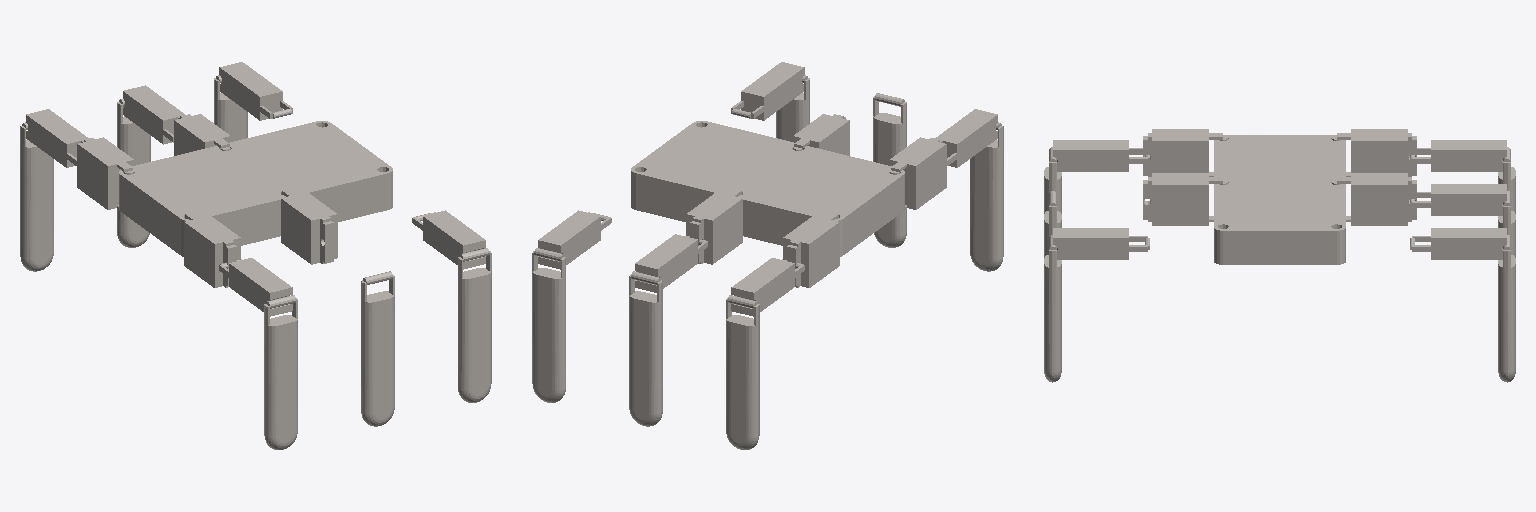
--- Facts derived from the render (not from the file) ---
The picture shows the robot from 3 angles, left to right: view 1: azimuth 30°, elevation 25°; view 2: azimuth 150°, elevation 25°; view 3: azimuth 270°, elevation 25°; orthographic projection.
Robot: hexapod — 20 links, 19 joints (17 revolute, 1 continuous, 1 fixed); root link base_link; default pose: every joint at zero.
Visible links, largest first — view 1: BODY, leg_1_3, leg_2_3, leg_0_3, leg_3_3, leg_1_1, leg_2_1, leg_3_1, leg_5_2, leg_0_2, leg_2_2, leg_4_2 (+4 smaller); view 2: BODY, leg_4_3, leg_3_3, leg_5_3, leg_2_3, leg_4_1, leg_3_1, leg_2_1, leg_1_3, leg_0_2, leg_5_2, leg_3_2 (+4 smaller); view 3: BODY, leg_1_1, leg_4_1, leg_2_1, leg_3_1, leg_0_2, leg_5_2, leg_2_2, leg_3_2, leg_4_2, leg_0_3, leg_5_3 (+4 smaller).
Link boxes in pixels (x1,y1,x2,y2): BODY: (119, 121, 392, 256); leg_1_3: (361, 271, 394, 426); leg_2_3: (264, 295, 297, 449); leg_0_3: (458, 248, 491, 402); leg_3_3: (20, 122, 53, 271); leg_1_1: (281, 189, 337, 264); leg_2_1: (184, 212, 240, 287); leg_3_1: (77, 137, 133, 209); leg_5_2: (219, 62, 292, 120); leg_0_2: (412, 210, 485, 269); leg_2_2: (219, 258, 292, 316); leg_4_2: (123, 85, 184, 144); BODY: (631, 121, 904, 256); leg_4_3: (629, 271, 662, 426); leg_3_3: (726, 295, 759, 449); leg_5_3: (532, 248, 565, 402); leg_2_3: (970, 122, 1003, 271); leg_4_1: (686, 189, 742, 264); leg_3_1: (783, 212, 839, 287); leg_2_1: (890, 137, 946, 209); leg_1_3: (873, 93, 906, 247); leg_0_2: (731, 62, 804, 120); leg_5_2: (538, 210, 611, 269); leg_3_2: (731, 258, 804, 316); BODY: (1214, 135, 1345, 264); leg_1_1: (1143, 173, 1227, 225); leg_4_1: (1332, 173, 1416, 225); leg_2_1: (1143, 129, 1227, 176); leg_3_1: (1332, 129, 1416, 176); leg_0_2: (1053, 228, 1149, 259); leg_5_2: (1410, 228, 1506, 259); leg_2_2: (1053, 140, 1149, 171); leg_3_2: (1410, 140, 1506, 171); leg_4_2: (1410, 184, 1506, 215); leg_0_3: (1044, 235, 1061, 382); leg_5_3: (1498, 235, 1515, 382).
Bounding box of the posed robot: 0.256 × 0.498 × 0.184 m (x, y, z).
Meshes: 19 distinct files referenced, 16 mesh visuals loaded (16 binary STL); not drawn: 3 (reference not matched to a file when rendering).

URDF robot description (hexapod):
<?xml version="1.0" encoding="utf-8"?>
<!-- This URDF was automatically created by SolidWorks to URDF Exporter! Originally created by Stephen Brawner ([email redacted]) 
     Commit Version: 1.6.0-1-g15f4949  Build Version: 1.6.7594.29634
     For more information, please see http://wiki.ros.org/sw_urdf_exporter -->
<robot
  name="hexapod">
  <link name="base_link"/>
    <joint name="j_phantomx_attachment" type="fixed">
    <parent link="base_link"/>
    <child link="BODY"/>
    <origin rpy="0 0 0" xyz="0 0 0"/>
  </joint>
  <link
    name="BODY">
    <inertial>
      <origin
        xyz="1.6123E-18 2.0011E-17 0.02"
        rpy="0 0 0" />
      <mass
        value="10.113" />
      <inertia
        ixx="0.017376"
        ixy="1.3248E-18"
        ixz="-2.583E-20"
        iyy="0.048968"
        iyz="4.6469E-19"
        izz="0.063647" />
    </inertial>
    <visual>
      <origin
        xyz="0 0 0"
        rpy="0 0 0" />
      <geometry>
        <mesh
          filename="package://hexapod/meshes/base_link.STL" />
      </geometry>
      <material
        name="">
        <color
          rgba="0.77647 0.75686 0.73725 1" />
      </material>
    </visual>
    <collision>
      <origin
        xyz="0 0 0"
        rpy="0 0 0" />
      <geometry>
        <mesh
          filename="package://hexapod/meshes/base_link.STL" />
      </geometry>
    </collision>
  </link>
  <link
    name="leg_0_1">
    <inertial>
      <origin
        xyz="-1.3878E-17 -0.044545 -3.4694E-18"
        rpy="0 0 0" />
      <mass
        value="0.72839" />
      <inertia
        ixx="0.00043937"
        ixy="-8.7578E-21"
        ixz="1.2531E-20"
        iyy="0.00019126"
        iyz="-6.4529E-20"
        izz="0.00034884" />
    </inertial>
    <visual>
      <origin
        xyz="0 0 0"
        rpy="0 0 0" />
      <geometry>
        <mesh
          filename="package://hexapod/meshes/leg_0_1.STL" />
      </geometry>
      <material
        name="">
        <color
          rgba="0.77647 0.75686 0.73725 1" />
      </material>
    </visual>
    <collision>
      <origin
        xyz="0 0 0"
        rpy="0 0 0" />
      <geometry>
        <mesh
          filename="package://hexapod/meshes/leg_0_1.STL" />
      </geometry>
    </collision>
  </link>
  <joint
    name="body_leg_0"
    type="continuous">
    <origin
      xyz="0.11 -0.06 0.02"
      rpy="0 0 0" />
    <parent
      link="base_link" />
    <child
      link="leg_0_1" />
    <axis
      xyz="0 0 1" />
    <limit
      lower="-1.57"
      upper="1.57"
      effort="30"
      velocity="3" />
  </joint>
  <link
    name="leg_0_2">
    <inertial>
      <origin
        xyz="1.0408E-17 0.058002 4.1633E-16"
        rpy="0 0 0" />
      <mass
        value="0.41845" />
      <inertia
        ixx="0.00026275"
        ixy="-4.5843E-20"
        ixz="1.1727E-21"
        iyy="4.7333E-05"
        iyz="1.0004E-20"
        izz="0.00026229" />
    </inertial>
    <visual>
      <origin
        xyz="0 0 0"
        rpy="0 0 0" />
      <geometry>
        <mesh
          filename="package://hexapod/meshes/leg_0_2.STL" />
      </geometry>
      <material
        name="">
        <color
          rgba="0.77647 0.75686 0.73725 1" />
      </material>
    </visual>
    <collision>
      <origin
        xyz="0 0 0"
        rpy="0 0 0" />
      <geometry>
        <mesh
          filename="package://hexapod/meshes/leg_0_2.STL" />
      </geometry>
    </collision>
  </link>
  <joint
    name="leg_0_1_2"
    type="revolute">
    <origin
      xyz="0 -0.08 0"
      rpy="3.1416 1.5708 0" />
    <parent
      link="leg_0_1" />
    <child
      link="leg_0_2" />
    <axis
      xyz="0 0 -1" />
    <limit
      lower="-1.57"
      upper="1.57"
      effort="30"
      velocity="3" />
  </joint>
  <link
    name="leg_0_3">
    <inertial>
      <origin
        xyz="0.084869 3.0882E-05 8.1879E-16"
        rpy="0 0 0" />
      <mass
        value="0.60411" />
      <inertia
        ixx="6.6228E-05"
        ixy="-9.4646E-08"
        ixz="-8.0496E-21"
        iyy="0.0010646"
        iyz="6.6317E-21"
        izz="0.0010259" />
    </inertial>
    <visual>
      <origin
        xyz="0 0 0"
        rpy="0 0 0" />
      <geometry>
        <mesh
          filename="package://hexapod/meshes/leg_0_3.STL" />
      </geometry>
      <material
        name="">
        <color
          rgba="0.77647 0.75686 0.73725 1" />
      </material>
    </visual>
    <collision>
      <origin
        xyz="0 0 0"
        rpy="0 0 0" />
      <geometry>
        <mesh
          filename="package://hexapod/meshes/leg_0_3.STL" />
      </geometry>
    </collision>
  </link>
  <joint
    name="leg_0_2_3"
    type="revolute">
    <origin
      xyz="0 0.1 0"
      rpy="0 0 0" />
    <parent
      link="leg_0_2" />
    <child
      link="leg_0_3" />
    <axis
      xyz="0 0 -1" />
    <limit
      lower="-1.57"
      upper="1.57"
      effort="30"
      velocity="3" />
  </joint>
  <link
    name="leg_1_1">
    <inertial>
      <origin
        xyz="8.3946E-19 -0.044545 -3.4694E-18"
        rpy="0 0 0" />
      <mass
        value="0.72839" />
      <inertia
        ixx="0.00043937"
        ixy="-5.1676E-21"
        ixz="1.8426E-20"
        iyy="0.00019126"
        iyz="-5.4987E-20"
        izz="0.00034884" />
    </inertial>
    <visual>
      <origin
        xyz="0 0 0"
        rpy="0 0 0" />
      <geometry>
        <mesh
          filename="package://hexapod/meshes/leg_1_1.STL" />
      </geometry>
      <material
        name="">
        <color
          rgba="0.77647 0.75686 0.73725 1" />
      </material>
    </visual>
    <collision>
      <origin
        xyz="0 0 0"
        rpy="0 0 0" />
      <geometry>
        <mesh
          filename="package://hexapod/meshes/leg_1_1.STL" />
      </geometry>
    </collision>
  </link>
  <joint
    name="body_leg_1"
    type="revolute">
    <origin
      xyz="0 -0.06 0.02"
      rpy="0 0 0" />
    <parent
      link="base_link" />
    <child
      link="leg_1_1" />
    <axis
      xyz="0 0 1" />
    <limit
      lower="-1.57"
      upper="1.57"
      effort="30"
      velocity="3" />
  </joint>
  <link
    name="leg_1_2">
    <inertial>
      <origin
        xyz="3.4694E-18 0.058002 6.9159E-16"
        rpy="0 0 0" />
      <mass
        value="0.41845" />
      <inertia
        ixx="0.00026275"
        ixy="-2.0171E-20"
        ixz="1.468E-21"
        iyy="4.7333E-05"
        iyz="1.2515E-22"
        izz="0.00026229" />
    </inertial>
    <visual>
      <origin
        xyz="0 0 0"
        rpy="0 0 0" />
      <geometry>
        <mesh
          filename="package://hexapod/meshes/leg_1_2.STL" />
      </geometry>
      <material
        name="">
        <color
          rgba="0.77647 0.75686 0.73725 1" />
      </material>
    </visual>
    <collision>
      <origin
        xyz="0 0 0"
        rpy="0 0 0" />
      <geometry>
        <mesh
          filename="package://hexapod/meshes/leg_1_2.STL" />
      </geometry>
    </collision>
  </link>
  <joint
    name="leg_1_1_2"
    type="revolute">
    <origin
      xyz="0 -0.08 0"
      rpy="3.1416 1.5708 0" />
    <parent
      link="leg_1_1" />
    <child
      link="leg_1_2" />
    <axis
      xyz="0 0 -1" />
    <limit
      lower="-1.57"
      upper="1.57"
      effort="30"
      velocity="3" />
  </joint>
  <link
    name="leg_1_3">
    <inertial>
      <origin
        xyz="0.084869 3.0882E-05 1.1215E-15"
        rpy="0 0 0" />
      <mass
        value="0.60411" />
      <inertia
        ixx="6.6228E-05"
        ixy="-9.4646E-08"
        ixz="1.4558E-20"
        iyy="0.0010646"
        iyz="6.946E-21"
        izz="0.0010259" />
    </inertial>
    <visual>
      <origin
        xyz="0 0 0"
        rpy="0 0 0" />
      <geometry>
        <mesh
          filename="package://hexapod/meshes/leg_1_3.STL" />
      </geometry>
      <material
        name="">
        <color
          rgba="0.77647 0.75686 0.73725 1" />
      </material>
    </visual>
    <collision>
      <origin
        xyz="0 0 0"
        rpy="0 0 0" />
      <geometry>
        <mesh
          filename="package://hexapod/meshes/leg_1_3.STL" />
      </geometry>
    </collision>
  </link>
  <joint
    name="leg_1_2_3"
    type="revolute">
    <origin
      xyz="0 0.1 0"
      rpy="0 0 0" />
    <parent
      link="leg_1_2" />
    <child
      link="leg_1_3" />
    <axis
      xyz="0 0 -1" />
    <limit
      lower="-1.57"
      upper="1.57"
      effort="30"
      velocity="3" />
  </joint>
  <link
    name="leg_2_1">
    <inertial>
      <origin
        xyz="0 -0.0445450847414412 -3.46944695195361E-18"
        rpy="0 0 0" />
      <mass
        value="0.728389334455051" />
      <inertia
        ixx="0.000439366489580605"
        ixy="-9.68414164900796E-21"
        ixz="1.25312997166837E-20"
        iyy="0.000191259700311432"
        iyz="-6.18146469128453E-20"
        izz="0.000348844779107573" />
    </inertial>
    <visual>
      <origin
        xyz="0 0 0"
        rpy="0 0 0" />
      <geometry>
        <mesh
          filename="package://hexapod/meshes/leg_2_1.STL" />
      </geometry>
      <material
        name="">
        <color
          rgba="0.776470588235294 0.756862745098039 0.737254901960784 1" />
      </material>
    </visual>
    <collision>
      <origin
        xyz="0 0 0"
        rpy="0 0 0" />
      <geometry>
        <mesh
          filename="package://hexapod/meshes/leg_2_1.STL" />
      </geometry>
    </collision>
  </link>
  <joint
    name="body_leg_2"
    type="revolute">
    <origin
      xyz="-0.11 -0.06 0.02"
      rpy="0 0 0" />
    <parent
      link="base_link" />
    <child
      link="leg_2_1" />
    <axis
      xyz="0 0 1" />
    <limit
      lower="-1.57"
      upper="1.57"
      effort="30"
      velocity="3" />
  </joint>
  <link
    name="leg_2_2">
    <inertial>
      <origin
        xyz="3.46944695195361E-18 0.0580015769708153 4.16333634234434E-16"
        rpy="0 0 0" />
      <mass
        value="0.418452411802267" />
      <inertia
        ixx="0.000262751554672186"
        ixy="-2.29707246501853E-20"
        ixz="1.17440633782818E-21"
        iyy="4.73331054250092E-05"
        iyz="8.90910991327263E-21"
        izz="0.000262289237082029" />
    </inertial>
    <visual>
      <origin
        xyz="0 0 0"
        rpy="0 0 0" />
      <geometry>
        <mesh
          filename="package://hexapod/meshes/leg_2_2.STL" />
      </geometry>
      <material
        name="">
        <color
          rgba="0.776470588235294 0.756862745098039 0.737254901960784 1" />
      </material>
    </visual>
    <collision>
      <origin
        xyz="0 0 0"
        rpy="0 0 0" />
      <geometry>
        <mesh
          filename="package://hexapod/meshes/leg_2_2.STL" />
      </geometry>
    </collision>
  </link>
  <joint
    name="leg_2_1_2"
    type="revolute">
    <origin
      xyz="0 -0.08 0"
      rpy="3.1416 1.5708 0" />
    <parent
      link="leg_2_1" />
    <child
      link="leg_2_2" />
    <axis
      xyz="0 0 -1" />
    <limit
      lower="-1.57"
      upper="1.57"
      effort="30"
      velocity="3" />
  </joint>
  <link
    name="leg_2_3">
    <inertial>
      <origin
        xyz="0.0848685291504994 3.08818446349557E-05 8.46545056276682E-16"
        rpy="0 0 0" />
      <mass
        value="0.604107235995325" />
      <inertia
        ixx="6.62284657464222E-05"
        ixy="-9.46460575317657E-08"
        ixz="-1.41036926063462E-20"
        iyy="0.0010645650517775"
        iyz="3.46274953425248E-21"
        izz="0.0010258729180328" />
    </inertial>
    <visual>
      <origin
        xyz="0 0 0"
        rpy="0 0 0" />
      <geometry>
        <mesh
          filename="package://hexapod/meshes/leg_2_3.STL" />
      </geometry>
      <material
        name="">
        <color
          rgba="0.776470588235294 0.756862745098039 0.737254901960784 1" />
      </material>
    </visual>
    <collision>
      <origin
        xyz="0 0 0"
        rpy="0 0 0" />
      <geometry>
        <mesh
          filename="package://hexapod/meshes/leg_2_3.STL" />
      </geometry>
    </collision>
  </link>
  <joint
    name="leg_2_2_3"
    type="revolute">
    <origin
      xyz="0 0.1 0"
      rpy="0 0 0" />
    <parent
      link="leg_2_2" />
    <child
      link="leg_2_3" />
    <axis
      xyz="0 0 -1" />
    <limit
      lower="-1.57"
      upper="1.57"
      effort="30"
      velocity="3" />
  </joint>
  <link
    name="leg_3_1">
    <inertial>
      <origin
        xyz="-3.33066907387547E-16 0.0445450847414412 -3.46944695195361E-18"
        rpy="0 0 0" />
      <mass
        value="0.728389334455052" />
      <inertia
        ixx="0.000439366489580605"
        ixy="1.73224222987974E-18"
        ixz="-1.04914228023895E-20"
        iyy="0.000191259700311432"
        iyz="5.99711139565986E-20"
        izz="0.000348844779107574" />
    </inertial>
    <visual>
      <origin
        xyz="0 0 0"
        rpy="0 0 0" />
      <geometry>
        <mesh
          filename="package://hexapod/meshes/leg_3_1.STL" />
      </geometry>
      <material
        name="">
        <color
          rgba="0.776470588235294 0.756862745098039 0.737254901960784 1" />
      </material>
    </visual>
    <collision>
      <origin
        xyz="0 0 0"
        rpy="0 0 0" />
      <geometry>
        <mesh
          filename="package://hexapod/meshes/leg_3_1.STL" />
      </geometry>
    </collision>
  </link>
  <joint
    name="body_leg_3"
    type="revolute">
    <origin
      xyz="-0.11 0.06 0.02"
      rpy="0 0 0" />
    <parent
      link="base_link" />
    <child
      link="leg_3_1" />
    <axis
      xyz="0 0 1" />
    <limit
      lower="-1.57"
      upper="1.57"
      effort="30"
      velocity="3" />
  </joint>
  <link
    name="leg_3_2">
    <inertial>
      <origin
        xyz="3.46944695195361E-18 0.0580015769708153 -1.52655665885959E-16"
        rpy="0 0 0" />
      <mass
        value="0.418452411802267" />
      <inertia
        ixx="0.000262751554672186"
        ixy="-3.19297811222879E-20"
        ixz="-1.82686702704007E-21"
        iyy="4.73331054250092E-05"
        iyz="3.83984040313595E-21"
        izz="0.000262289237082029" />
    </inertial>
    <visual>
      <origin
        xyz="0 0 0"
        rpy="0 0 0" />
      <geometry>
        <mesh
          filename="package://hexapod/meshes/leg_3_2.STL" />
      </geometry>
      <material
        name="">
        <color
          rgba="0.776470588235294 0.756862745098039 0.737254901960784 1" />
      </material>
    </visual>
    <collision>
      <origin
        xyz="0 0 0"
        rpy="0 0 0" />
      <geometry>
        <mesh
          filename="package://hexapod/meshes/leg_3_2.STL" />
      </geometry>
    </collision>
  </link>
  <joint
    name="leg_3_1_2"
    type="revolute">
    <origin
      xyz="0 0.08 0"
      rpy="0 1.5708 0" />
    <parent
      link="leg_3_1" />
    <child
      link="leg_3_2" />
    <axis
      xyz="0 0 -1" />
    <limit
      lower="-1.57"
      upper="1.57"
      effort="30"
      velocity="3" />
  </joint>
  <link
    name="leg_3_3">
    <inertial>
      <origin
        xyz="0.0848685291504994 3.08818446349002E-05 -4.44089209850063E-16"
        rpy="0 0 0" />
      <mass
        value="0.604107235995325" />
      <inertia
        ixx="6.62284657464222E-05"
        ixy="-9.46460575317819E-08"
        ixz="-1.36468729878862E-20"
        iyy="0.0010645650517775"
        iyz="1.69186859746484E-20"
        izz="0.0010258729180328" />
    </inertial>
    <visual>
      <origin
        xyz="0 0 0"
        rpy="0 0 0" />
      <geometry>
        <mesh
          filename="package://hexapod/meshes/leg_3_3.STL" />
      </geometry>
      <material
        name="">
        <color
          rgba="0.776470588235294 0.756862745098039 0.737254901960784 1" />
      </material>
    </visual>
    <collision>
      <origin
        xyz="0 0 0"
        rpy="0 0 0" />
      <geometry>
        <mesh
          filename="package://hexapod/meshes/leg_3_3.STL" />
      </geometry>
    </collision>
  </link>
  <joint
    name="leg_3_2_3"
    type="revolute">
    <origin
      xyz="0 0.1 0"
      rpy="0 0 0" />
    <parent
      link="leg_3_2" />
    <child
      link="leg_3_3" />
    <axis
      xyz="0 0 -1" />
    <limit
      lower="-1.57"
      upper="1.57"
      effort="30"
      velocity="3" />
  </joint>
  <link
    name="leg_4_1">
    <inertial>
      <origin
        xyz="-3.10207390283982E-16 0.0445450847414412 -3.46944695195361E-18"
        rpy="0 0 0" />
      <mass
        value="0.728389334455052" />
      <inertia
        ixx="0.000439366489580605"
        ixy="1.71212669776875E-18"
        ixz="-1.85376953020843E-20"
        iyy="0.000191259700311432"
        iyz="5.84109266813159E-20"
        izz="0.000348844779107574" />
    </inertial>
    <visual>
      <origin
        xyz="0 0 0"
        rpy="0 0 0" />
      <geometry>
        <mesh
          filename="package://hexapod/meshes/leg_4_1.STL" />
      </geometry>
      <material
        name="">
        <color
          rgba="0.776470588235294 0.756862745098039 0.737254901960784 1" />
      </material>
    </visual>
    <collision>
      <origin
        xyz="0 0 0"
        rpy="0 0 0" />
      <geometry>
        <mesh
          filename="package://hexapod/meshes/leg_4_1.STL" />
      </geometry>
    </collision>
  </link>
  <joint
    name="body_leg_4"
    type="revolute">
    <origin
      xyz="0 0.06 0.02"
      rpy="0 0 0" />
    <parent
      link="base_link" />
    <child
      link="leg_4_1" />
    <axis
      xyz="0 0 1" />
    <limit
      lower="-1.57"
      upper="1.57"
      effort="30"
      velocity="3" />
  </joint>
  <link
    name="leg_4_2">
    <inertial>
      <origin
        xyz="1.38777878078145E-17 0.0580015769708153 -4.44383469065972E-16"
        rpy="0 0 0" />
      <mass
        value="0.418452411802267" />
      <inertia
        ixx="0.000262751554672186"
        ixy="-5.39530835154313E-20"
        ixz="1.85302270824603E-21"
        iyy="4.73331054250092E-05"
        iyz="4.22125501442446E-21"
        izz="0.000262289237082029" />
    </inertial>
    <visual>
      <origin
        xyz="0 0 0"
        rpy="0 0 0" />
      <geometry>
        <mesh
          filename="package://hexapod/meshes/leg_4_2.STL" />
      </geometry>
      <material
        name="">
        <color
          rgba="0.776470588235294 0.756862745098039 0.737254901960784 1" />
      </material>
    </visual>
    <collision>
      <origin
        xyz="0 0 0"
        rpy="0 0 0" />
      <geometry>
        <mesh
          filename="package://hexapod/meshes/leg_4_2.STL" />
      </geometry>
    </collision>
  </link>
  <joint
    name="leg_4_1_2"
    type="revolute">
    <origin
      xyz="0 0.08 0"
      rpy="0 1.5708 0" />
    <parent
      link="leg_4_1" />
    <child
      link="leg_4_2" />
    <axis
      xyz="0 0 -1" />
    <limit
      lower="-1.57"
      upper="1.57"
      effort="30"
      velocity="3" />
  </joint>
  <link
    name="leg_4_3">
    <inertial>
      <origin
        xyz="0.0848685291504994 3.08818446349279E-05 -7.27946480685188E-16"
        rpy="0 0 0" />
      <mass
        value="0.604107235995325" />
      <inertia
        ixx="6.62284657464222E-05"
        ixy="-9.46460575317807E-08"
        ixz="8.79682739135738E-21"
        iyy="0.0010645650517775"
        iyz="1.06402762826064E-20"
        izz="0.0010258729180328" />
    </inertial>
    <visual>
      <origin
        xyz="0 0 0"
        rpy="0 0 0" />
      <geometry>
        <mesh
          filename="package://hexapod/meshes/leg_4_3.STL" />
      </geometry>
      <material
        name="">
        <color
          rgba="0.776470588235294 0.756862745098039 0.737254901960784 1" />
      </material>
    </visual>
    <collision>
      <origin
        xyz="0 0 0"
        rpy="0 0 0" />
      <geometry>
        <mesh
          filename="package://hexapod/meshes/leg_4_3.STL" />
      </geometry>
    </collision>
  </link>
  <joint
    name="leg_4_2_3"
    type="revolute">
    <origin
      xyz="0 0.1 0"
      rpy="0 0 0" />
    <parent
      link="leg_4_2" />
    <child
      link="leg_4_3" />
    <axis
      xyz="0 0 -1" />
    <limit
      lower="-1.57"
      upper="1.57"
      effort="30"
      velocity="3" />
  </joint>
  <link
    name="leg_5_1">
    <inertial>
      <origin
        xyz="-3.05311331771918E-16 0.0445450847414412 -3.46944695195361E-18"
        rpy="0 0 0" />
      <mass
        value="0.728389334455052" />
      <inertia
        ixx="0.000439366489580605"
        ixy="1.73270541333655E-18"
        ixz="-1.04894919526316E-20"
        iyy="0.000191259700311432"
        iyz="6.32437500027912E-20"
        izz="0.000348844779107574" />
    </inertial>
    <visual>
      <origin
        xyz="0 0 0"
        rpy="0 0 0" />
      <geometry>
        <mesh
          filename="package://hexapod/meshes/leg_5_1.STL" />
      </geometry>
      <material
        name="">
        <color
          rgba="0.776470588235294 0.756862745098039 0.737254901960784 1" />
      </material>
    </visual>
    <collision>
      <origin
        xyz="0 0 0"
        rpy="0 0 0" />
      <geometry>
        <mesh
          filename="package://hexapod/meshes/leg_5_1.STL" />
      </geometry>
    </collision>
  </link>
  <joint
    name="body_leg_5"
    type="revolute">
    <origin
      xyz="0.11 0.06 0.02"
      rpy="0 0 0" />
    <parent
      link="base_link" />
    <child
      link="leg_5_1" />
    <axis
      xyz="0 0 1" />
    <limit
      lower="-1.57"
      upper="1.57"
      effort="30"
      velocity="3" />
  </joint>
  <link
    name="leg_5_2">
    <inertial>
      <origin
        xyz="1.04083408558608E-17 0.0580015769708153 -1.2490009027033E-16"
        rpy="0 0 0" />
      <mass
        value="0.418452411802267" />
      <inertia
        ixx="0.000262751554672186"
        ixy="-5.50747586323413E-20"
        ixz="-1.83205374665578E-21"
        iyy="4.73331054250092E-05"
        iyz="3.64508569336397E-21"
        izz="0.000262289237082029" />
    </inertial>
    <visual>
      <origin
        xyz="0 0 0"
        rpy="0 0 0" />
      <geometry>
        <mesh
          filename="package://hexapod/meshes/leg_5_2.STL" />
      </geometry>
      <material
        name="">
        <color
          rgba="0.776470588235294 0.756862745098039 0.737254901960784 1" />
      </material>
    </visual>
    <collision>
      <origin
        xyz="0 0 0"
        rpy="0 0 0" />
      <geometry>
        <mesh
          filename="package://hexapod/meshes/leg_5_2.STL" />
      </geometry>
    </collision>
  </link>
  <joint
    name="leg_5_1_2"
    type="revolute">
    <origin
      xyz="0 0.08 0"
      rpy="0 1.5708 0" />
    <parent
      link="leg_5_1" />
    <child
      link="leg_5_2" />
    <axis
      xyz="0 0 -1" />
    <limit
      lower="-1.57"
      upper="1.57"
      effort="30"
      velocity="3" />
  </joint>
  <link
    name="leg_5_3">
    <inertial>
      <origin
        xyz="0.084869 3.0882E-05 -4.4409E-16"
        rpy="0 0 0" />
      <mass
        value="0.60411" />
      <inertia
        ixx="6.6228E-05"
        ixy="-9.4646E-08"
        ixz="1.4534E-22"
        iyy="0.0010646"
        iyz="1.5418E-20"
        izz="0.0010259" />
    </inertial>
    <visual>
      <origin
        xyz="0 0 0"
        rpy="0 0 0" />
      <geometry>
        <mesh
          filename="package://hexapod/meshes/leg_5_3.STL" />
      </geometry>
      <material
        name="">
        <color
          rgba="0.77647 0.75686 0.73725 1" />
      </material>
    </visual>
    <collision>
      <origin
        xyz="0 0 0"
        rpy="0 0 0" />
      <geometry>
        <mesh
          filename="package://hexapod/meshes/leg_5_3.STL" />
      </geometry>
    </collision>
  </link>
  <joint
    name="leg_5_2_3"
    type="revolute">
    <origin
      xyz="0 0.1 0"
      rpy="0 0 0" />
    <parent
      link="leg_5_2" />
    <child
      link="leg_5_3" />
    <axis
      xyz="0 0 -1" />
    <limit
      lower="-1.57"
      upper="1.57"
      effort="30"
      velocity="3" />
  </joint>
</robot>
